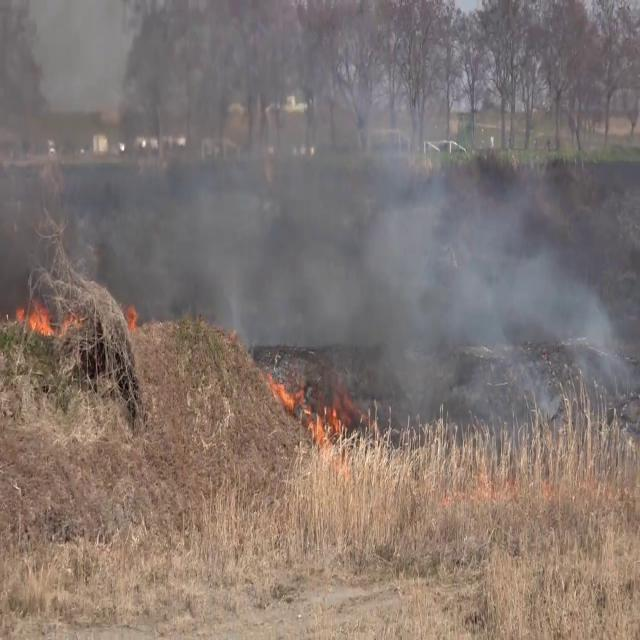Fire: (15, 292, 56, 340), (269, 373, 299, 425)
Smoke: (0, 1, 631, 418)
